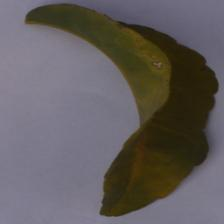greening: (102, 29, 222, 195)
